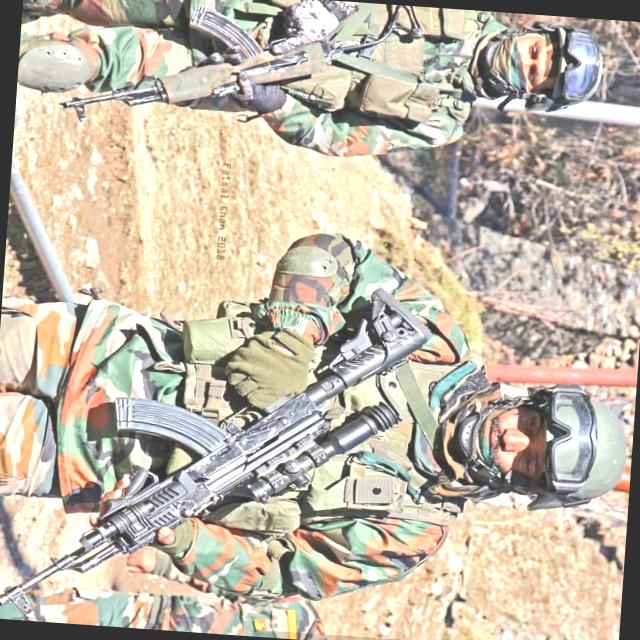long weapon: (0, 259, 490, 626)
